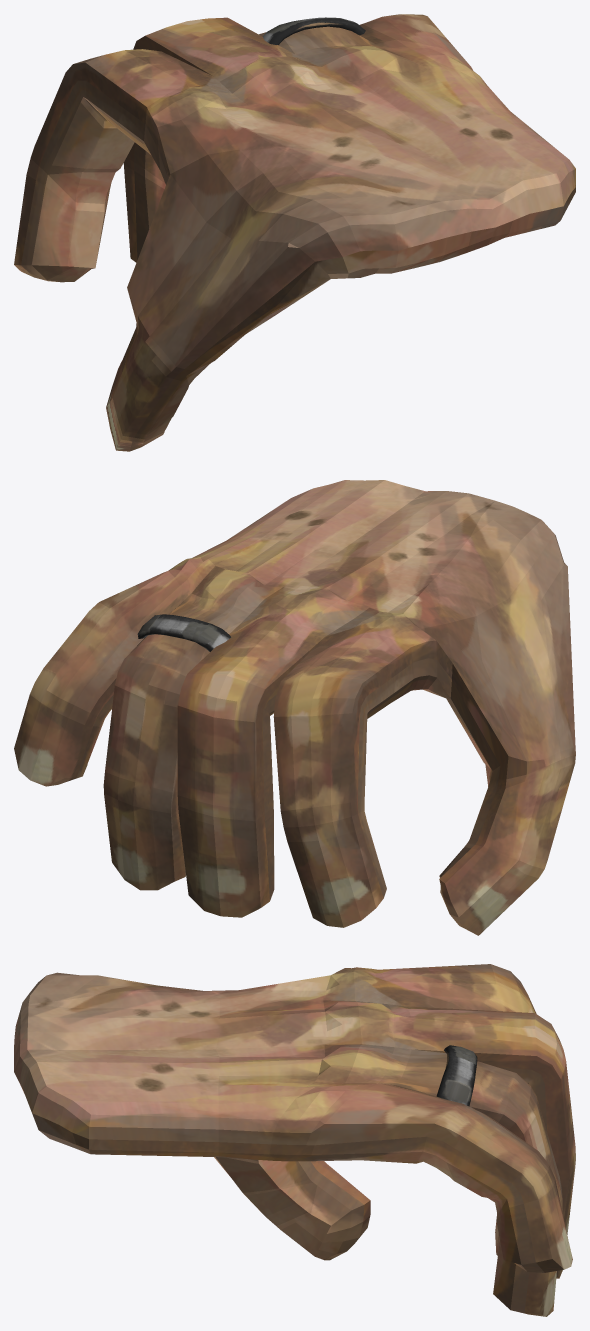
Rendered from Hand_Right02.fbx.
3 renders of one model, top to bottom at view 1: azimuth 30°, elevation 25°; view 2: azimuth 150°, elevation 25°; view 3: azimuth 270°, elevation 25°, orthographic. The views are drawn at different scales.
Parts seen in each view (by area): view 1: Hand_right02; view 2: Hand_right02; view 3: Hand_right02.
Boxes of the visible parts, x1=… form: Hand_right02: x1=14, y1=14, x2=575, y2=451; Hand_right02: x1=14, y1=480, x2=575, y2=935; Hand_right02: x1=14, y1=964, x2=575, y2=1316.
Size of the model in its own units: 0.1403 by 0.106 by 0.1633.
1 material, 1 textured.
